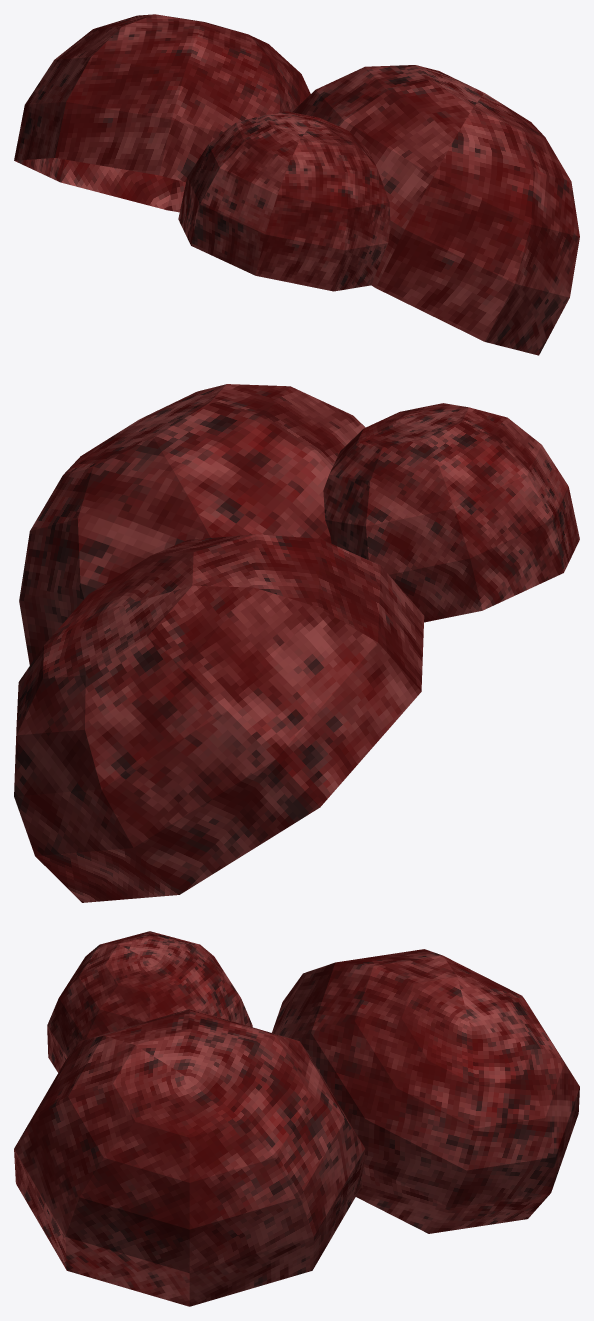
The model's file is grp_pustulesTop.fbx.
The picture shows the model from 3 angles, top to bottom: view 1: azimuth 30°, elevation 25°; view 2: azimuth 150°, elevation 25°; view 3: azimuth 270°, elevation 25°; orthographic projection. The views are drawn at different scales.
Visible parts, largest first — view 1: bubble_3, bubble_6, bubble_5; view 2: bubble_6, bubble_3, bubble_5; view 3: bubble_3, bubble_6, bubble_5.
Part boxes in pixels (x1,y1,x2,y2): bubble_3: (292, 65, 579, 355); bubble_6: (14, 14, 310, 212); bubble_5: (178, 111, 390, 291); bubble_6: (14, 534, 424, 902); bubble_3: (19, 384, 365, 665); bubble_5: (323, 403, 579, 622); bubble_3: (14, 1009, 365, 1306); bubble_6: (272, 949, 579, 1233); bubble_5: (47, 931, 252, 1072).
Bounding box in the file's own units: 1.5 × 0.9983 × 2.01.
